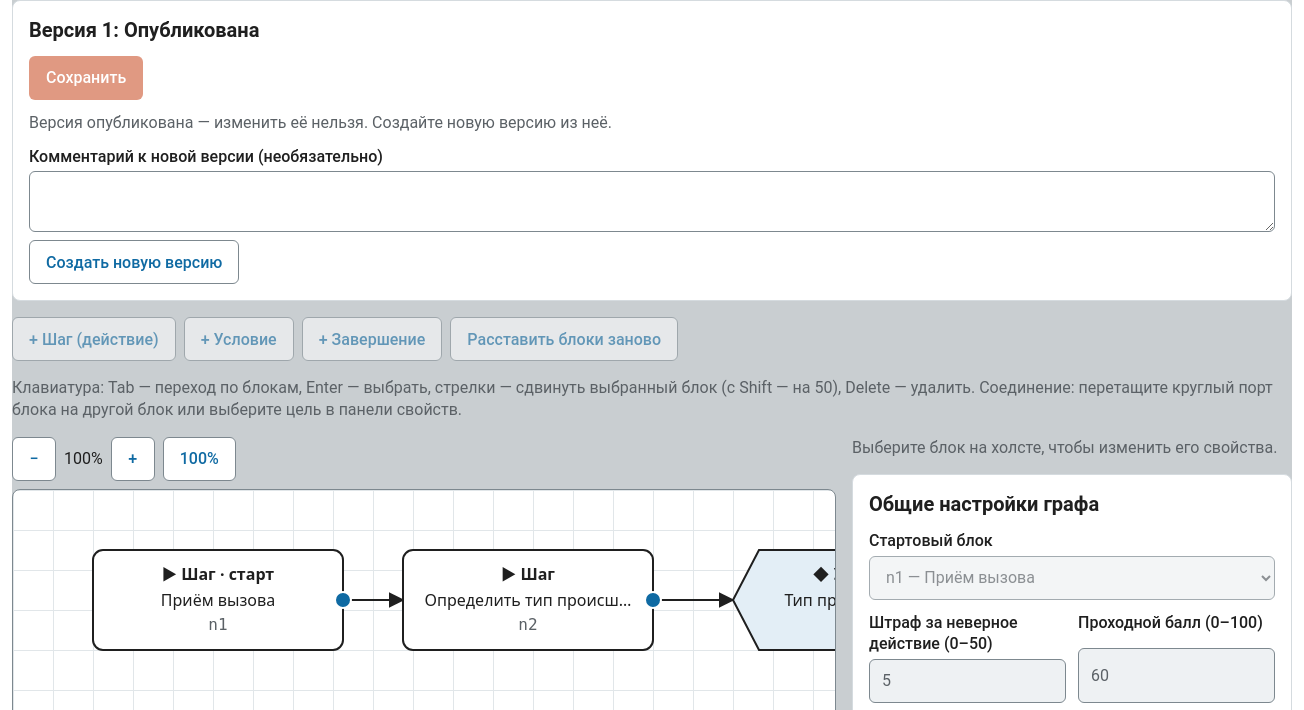
it: ScenarioGraphEditor: новая версия из принятой › создаёт версию с комментарием, перечитывает версии и открывает черновик
Type "уточнить" into the text box labelled "Комментарий к новой версии (необязательно)" at (652, 202), box [29,171,1275,232]
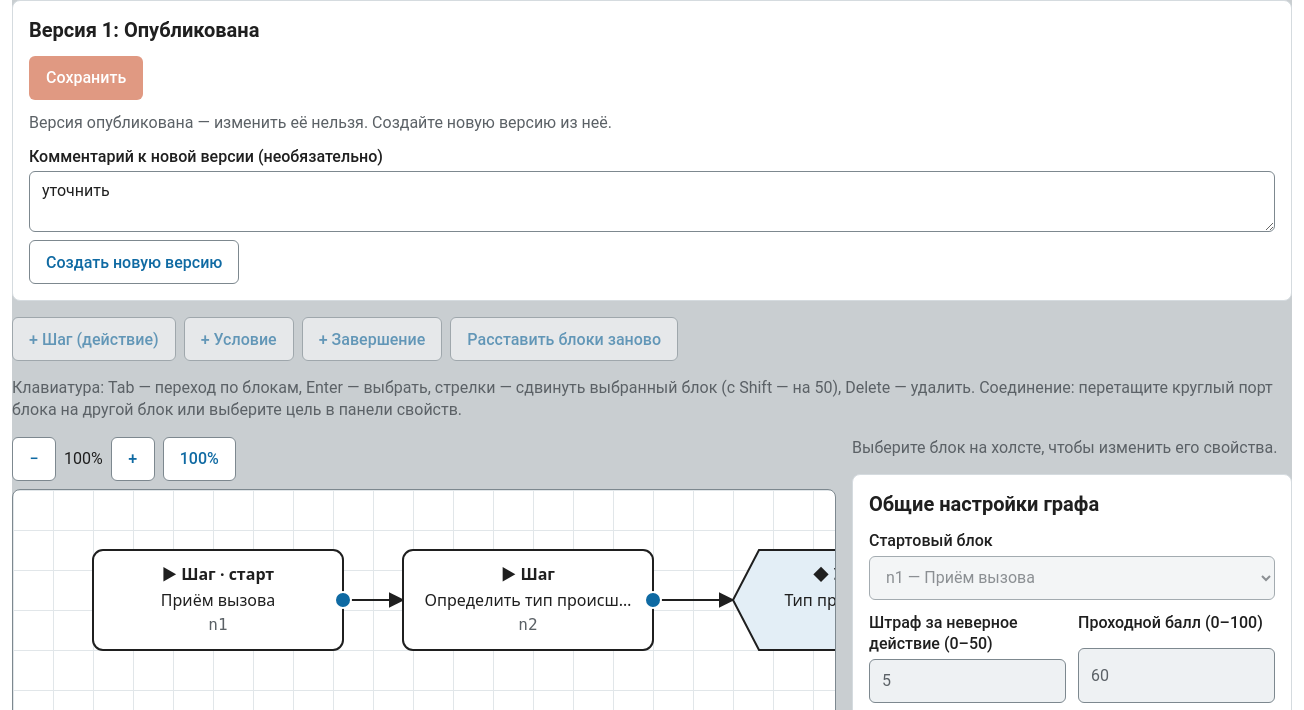
Click the button "Создать новую версию" at (134, 262), box [29,240,239,284]
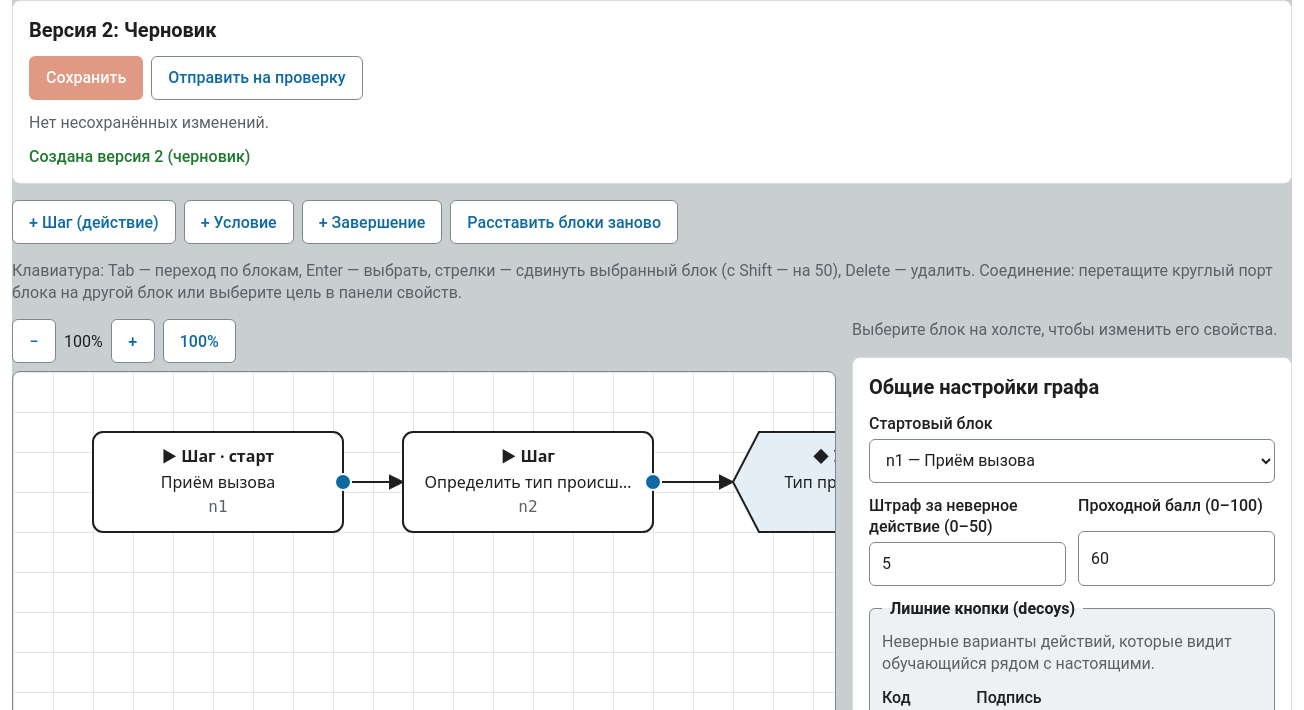
Result: the heading "Версия 2: Черновик" is shown at [29,17,216,44]
Result: the text with test id "approval-status" reads "Черновик" at [124,18,216,42]
Result: the text "Создана версия 2 (черновик)" is shown at [29,147,250,166]
